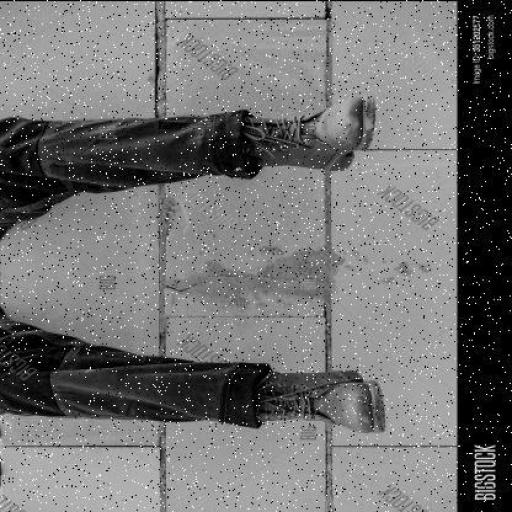safety_shoe: (243, 94, 379, 178), (257, 370, 388, 428)
